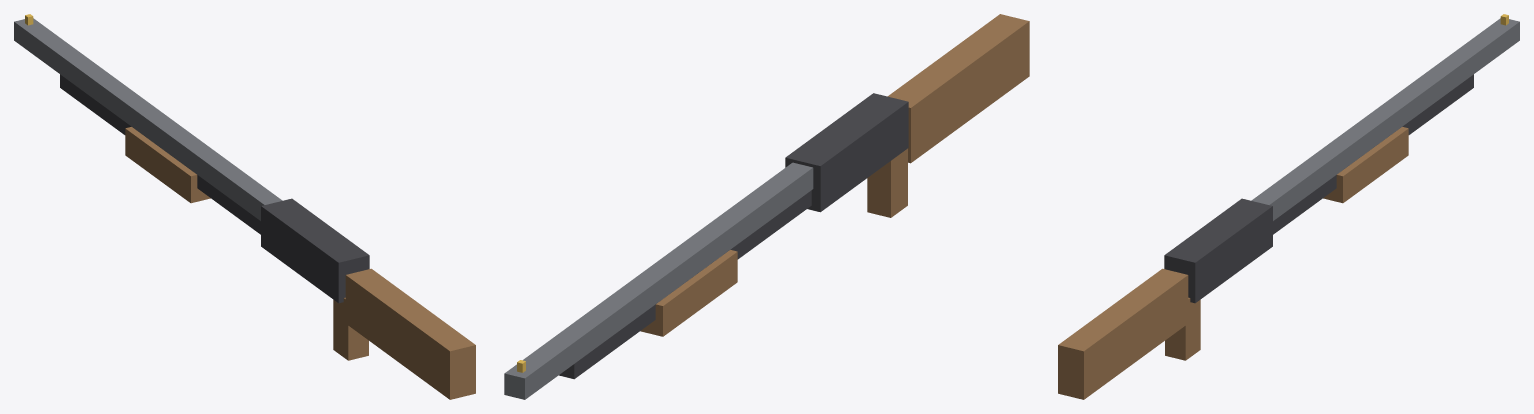
File: arma2.glb
The picture shows the model from 3 angles, left to right: view 1: azimuth 30°, elevation 25°; view 2: azimuth 150°, elevation 25°; view 3: azimuth 330°, elevation 25°; orthographic projection. The views are drawn at different scales.
Parts seen in each view (by area): view 1: Escopeta; view 2: Escopeta; view 3: Escopeta.
Part boxes in pixels (box(x1,y1,x2,y2)): Escopeta: box(14, 14, 475, 399); Escopeta: box(504, 14, 1029, 399); Escopeta: box(1058, 14, 1519, 399).
Bounding box in the file's own units: 0.06 × 0.1875 × 1.47.
